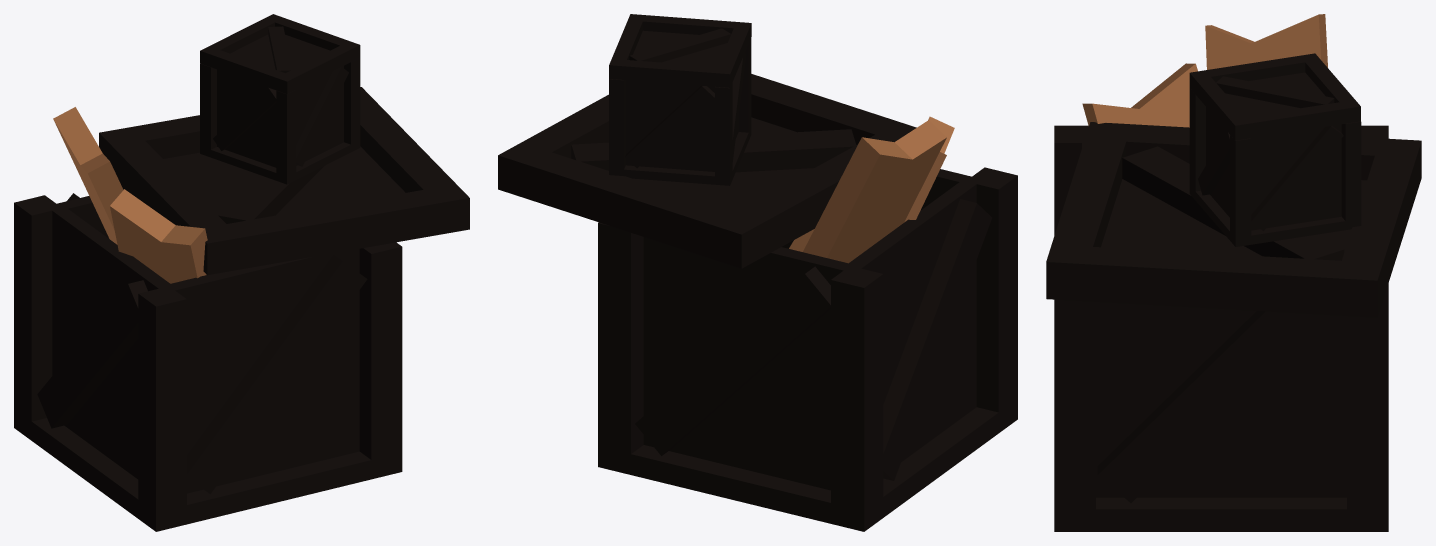
Rendered from Crate Planks.FBX.
3 views of the same model, side by side, from view 1: azimuth 30°, elevation 25°; view 2: azimuth 150°, elevation 25°; view 3: azimuth 270°, elevation 25° (orthographic). The views are drawn at different scales.
Visible parts, largest first — view 1: Box122; view 2: Box122; view 3: Box122.
Part boxes in pixels (<box>): Box122: <box>14,14,469,531</box>; Box122: <box>498,14,1017,531</box>; Box122: <box>1046,14,1421,531</box>.
Size of the model in its own units: 6.38 by 6.68 by 5.12.
